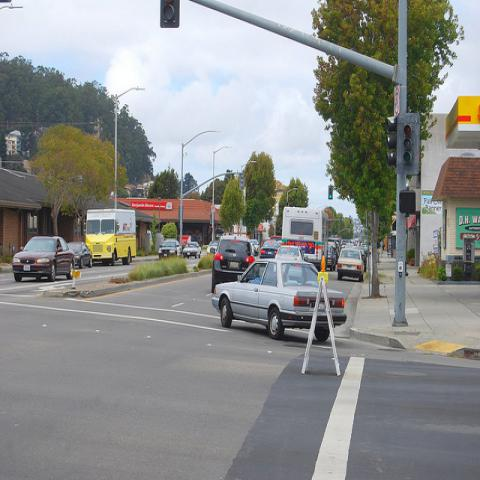bus: (282, 206, 329, 271)
car: (212, 258, 346, 341), (12, 235, 76, 283), (210, 238, 258, 295), (336, 248, 364, 281), (68, 241, 92, 270), (275, 244, 306, 262), (158, 240, 182, 258), (259, 241, 280, 259), (327, 239, 340, 264), (182, 242, 202, 258), (327, 246, 335, 271), (207, 241, 219, 255)
truck: (280, 206, 330, 268), (85, 209, 136, 267)
